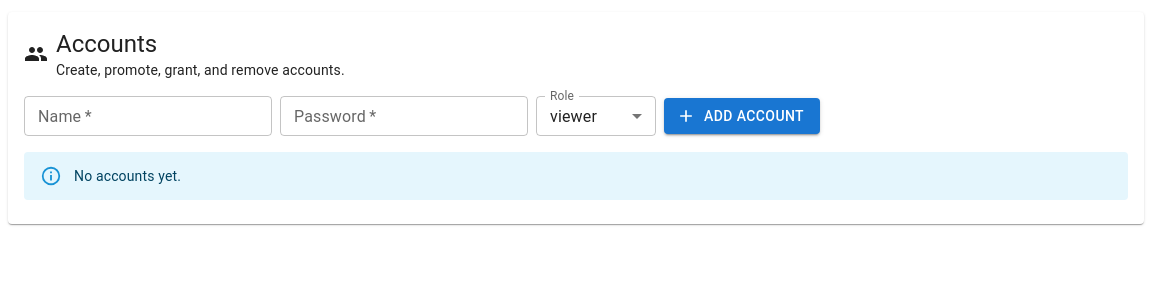
it: a server rejection surfaces the error instead of a false-positive row
This screenshot has width=1152, height=307.
Expected: the text "No accounts yet." is shown, [74,168,181,184]
In the field labelled "Name *": (148, 116) [24,96,272,136], type "bob"
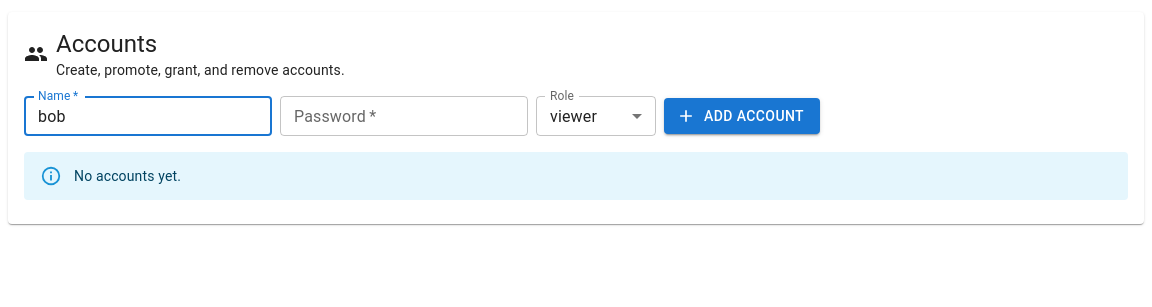
In the password field labelled "Password *": (404, 116) [280,96,528,136], type "s3cret"
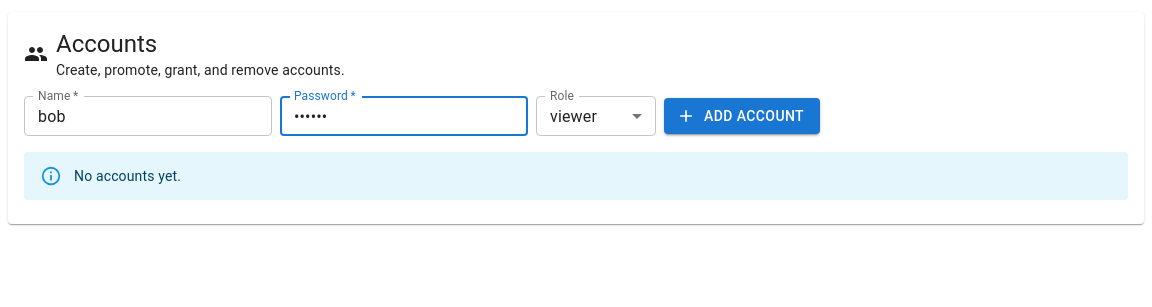
Click the button "Add account": (742, 116) [664,98,820,134]
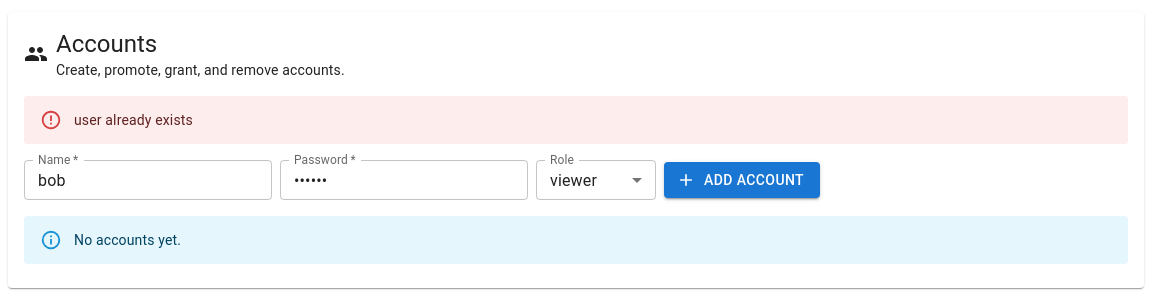
Expected: the text "user already exists" is shown, [74,112,193,128]
